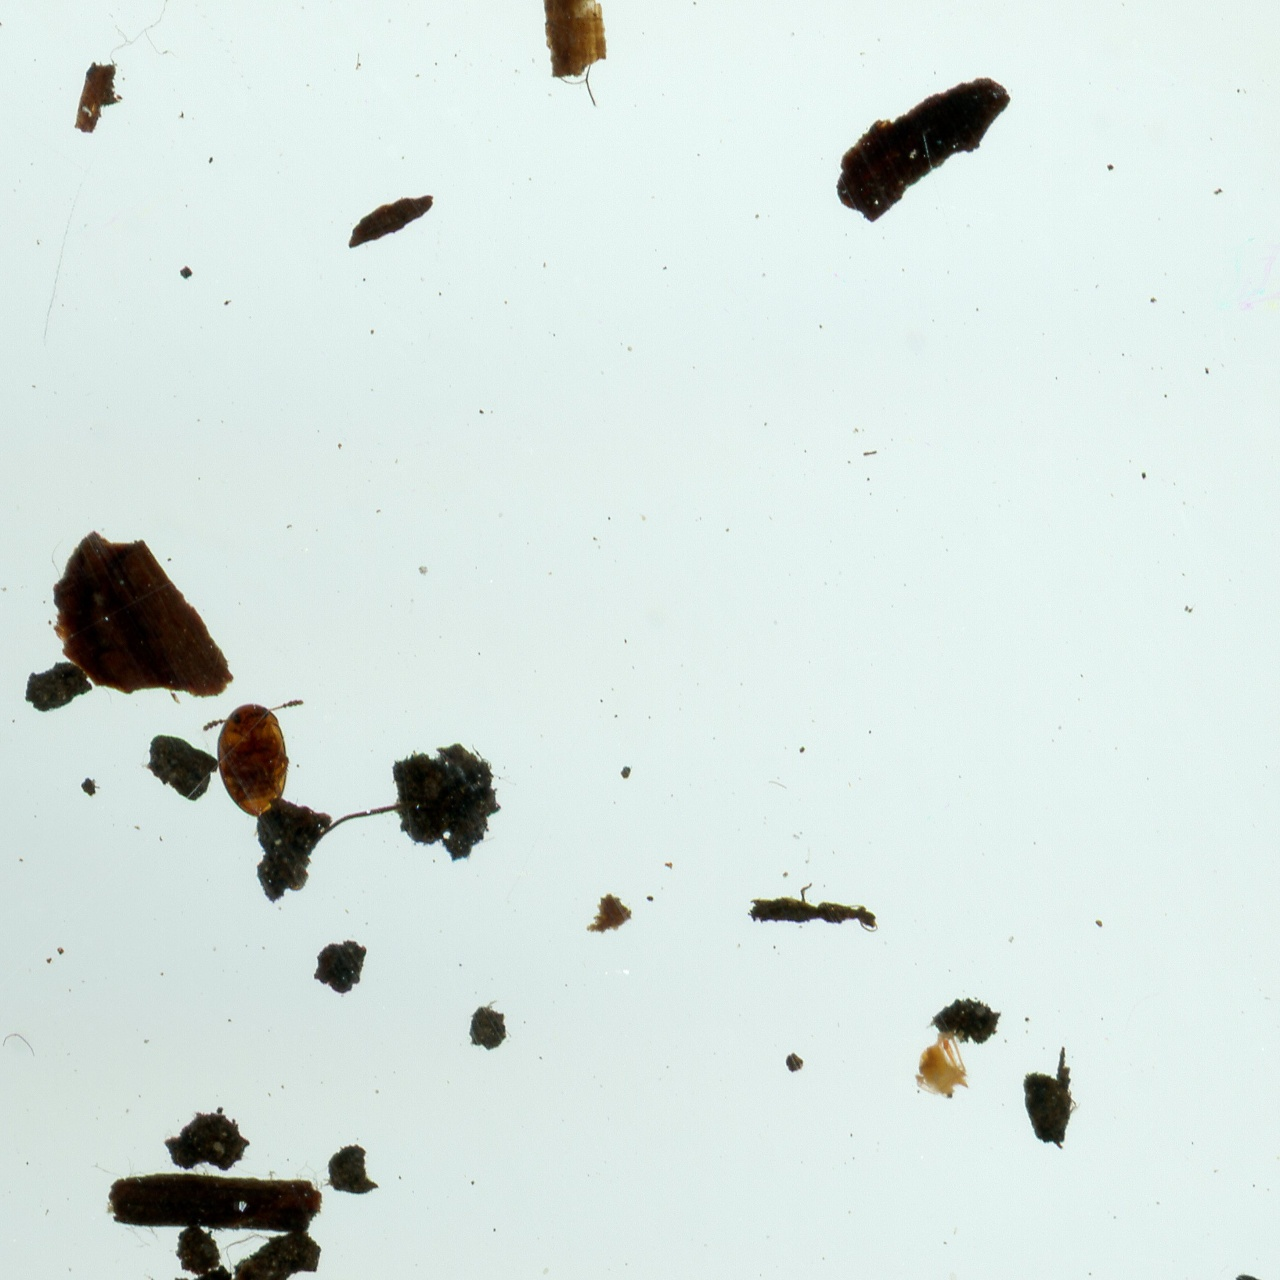arthropod: (200, 696, 313, 821)
